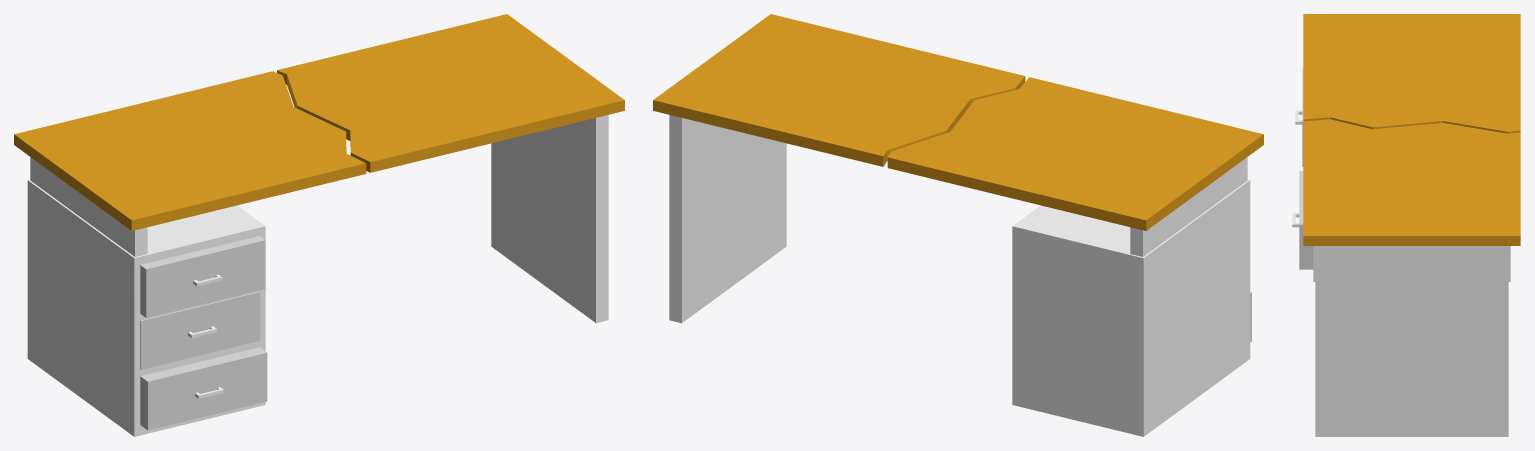
File: broken table.fbx
3 views of the same model, side by side, from view 1: azimuth 30°, elevation 25°; view 2: azimuth 150°, elevation 25°; view 3: azimuth 270°, elevation 25° (orthographic). The views are drawn at different scales.
Parts seen in each view (by area): view 1: Cube.007, Cube.005, Cube.004; view 2: Cube.007, Cube.005, Cube.004; view 3: Cube.007, Cube.004, Cube.005.
Boxes of the visible parts, x1,y1,x2,y2 form: Cube.007: [277, 14, 624, 323]; Cube.005: [27, 157, 267, 436]; Cube.004: [14, 71, 366, 230]; Cube.007: [653, 14, 1025, 323]; Cube.005: [1012, 157, 1251, 436]; Cube.004: [887, 77, 1263, 230]; Cube.007: [1303, 119, 1520, 436]; Cube.004: [1303, 14, 1520, 133]; Cube.005: [1292, 68, 1510, 281].
Size of the model in its own units: 484 by 209 by 210.
